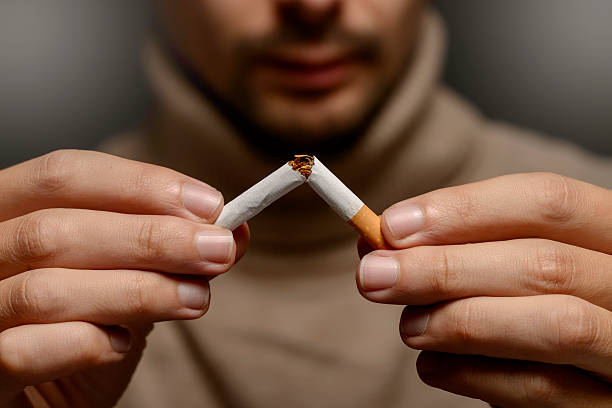cigarette: (297, 155, 395, 251), (210, 159, 307, 247)
